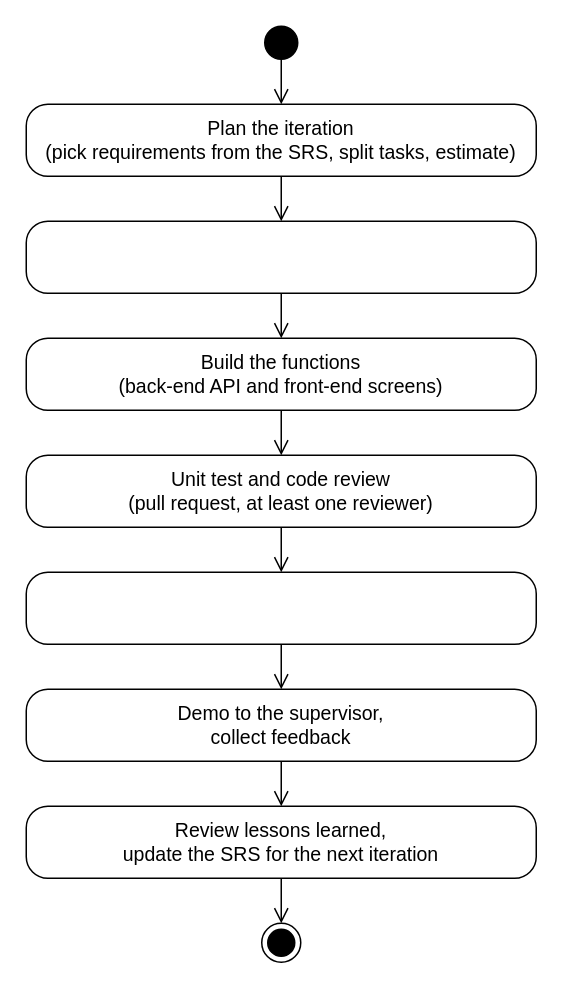
This 563x989 diagram has some shape labels left out. Each missing label, with the centre of its shape:
"Detailed design (update the SDS)" belongs at [280,256].
"Integration test on the shared database" belongs at [280,607].
